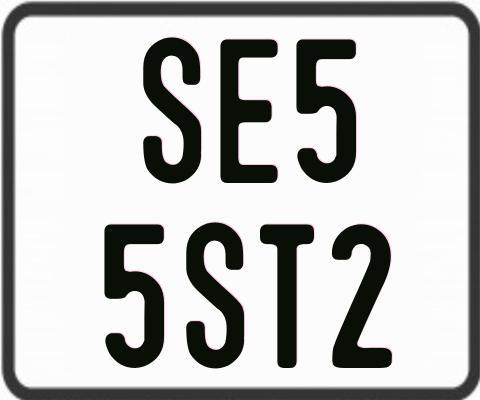2: (331, 222, 392, 372)
5: (293, 39, 358, 185), (104, 224, 164, 371)
E: (217, 37, 275, 183)
S: (141, 36, 201, 182), (185, 220, 243, 367)
T: (260, 223, 317, 371)
